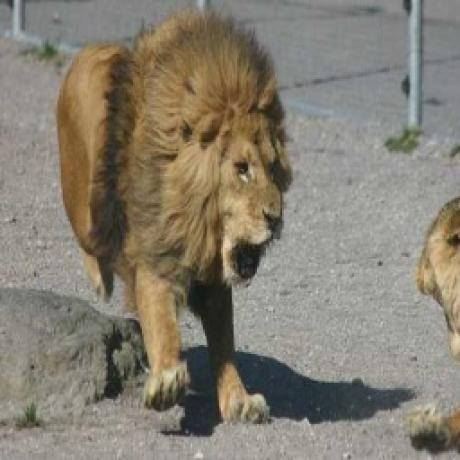Lion: (54, 7, 292, 427)
